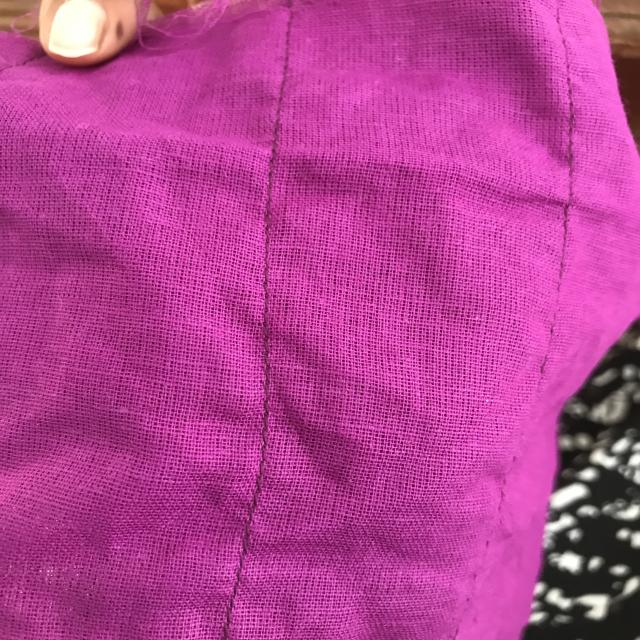good: (240, 269, 294, 394), (248, 424, 287, 538), (244, 175, 294, 240)
